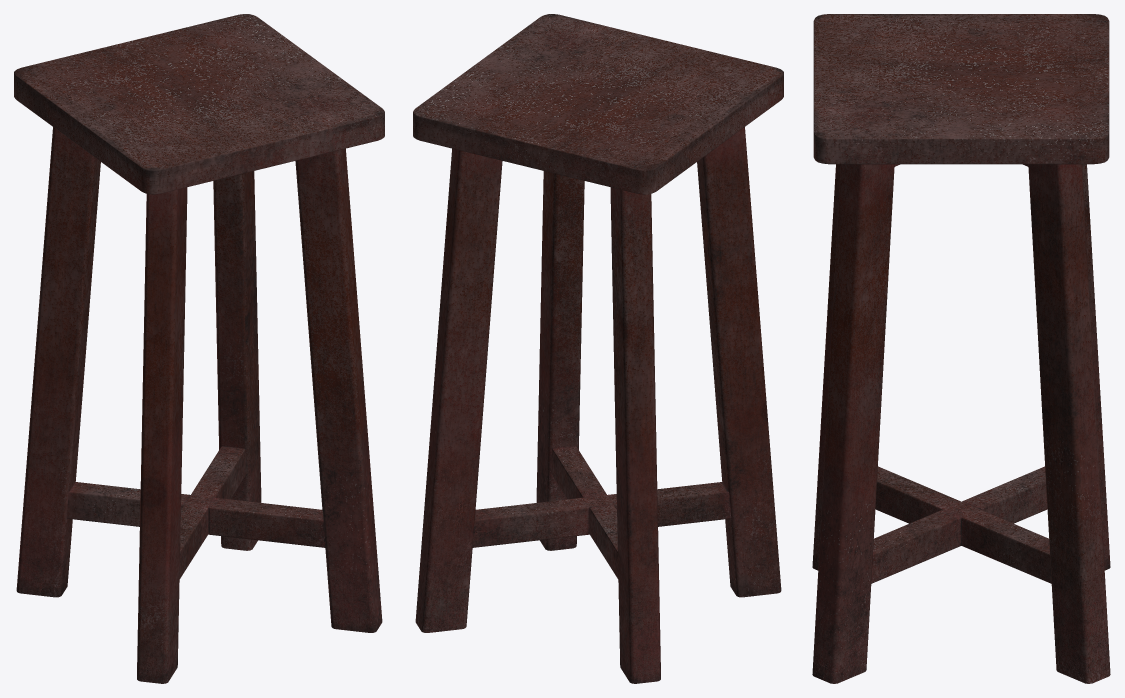
Rendered from Lab Chains.fbx.
3 views of the same model, side by side, from view 1: azimuth 30°, elevation 25°; view 2: azimuth 150°, elevation 25°; view 3: azimuth 270°, elevation 25° (orthographic). The views are drawn at different scales.
Parts seen in each view (by area): view 1: Lab_Chairs; view 2: Lab_Chairs; view 3: Lab_Chairs.
Part boxes in pixels (x1,y1,x2,y2): Lab_Chairs: (14, 14, 384, 683); Lab_Chairs: (413, 14, 783, 683); Lab_Chairs: (812, 14, 1110, 683).
Bounding box in the file's own units: 30.23 × 61.01 × 30.23.
